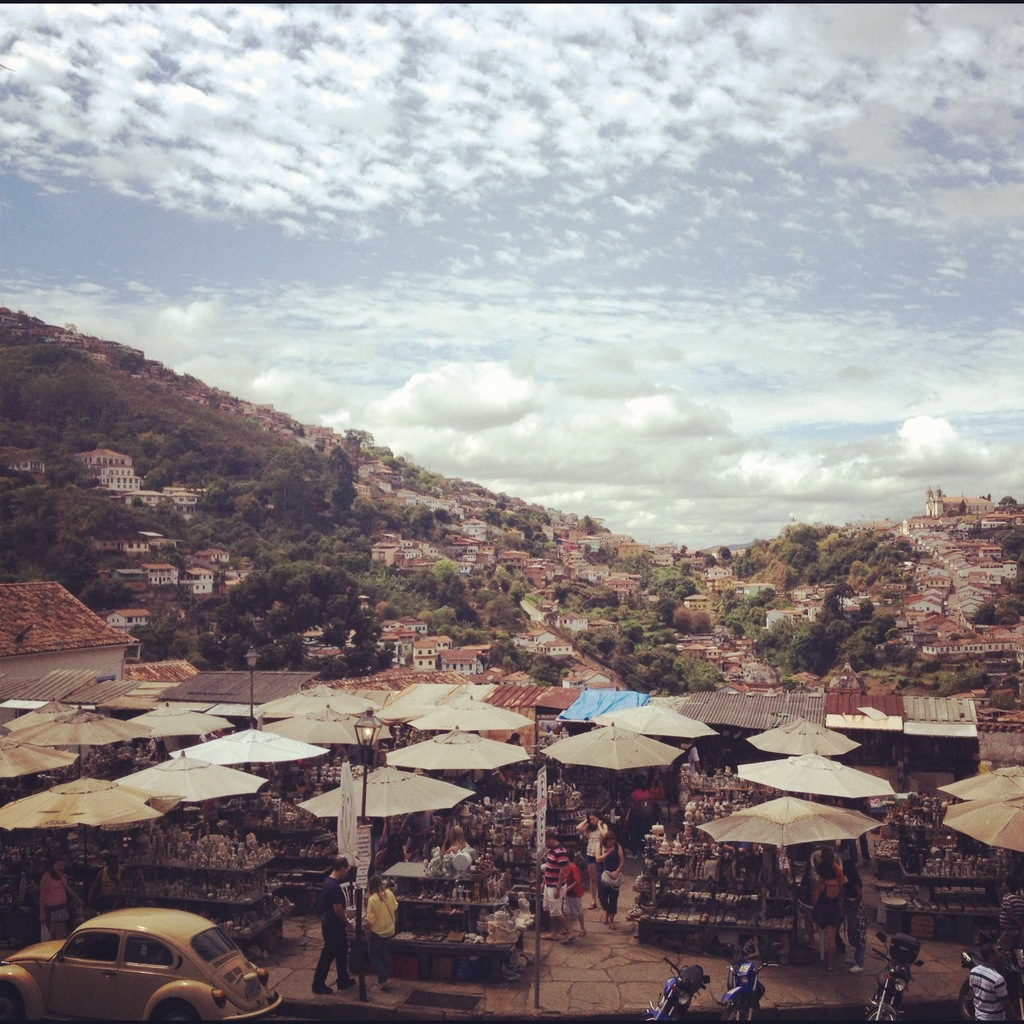Tree: (0, 300, 1023, 702), (194, 550, 401, 673)
